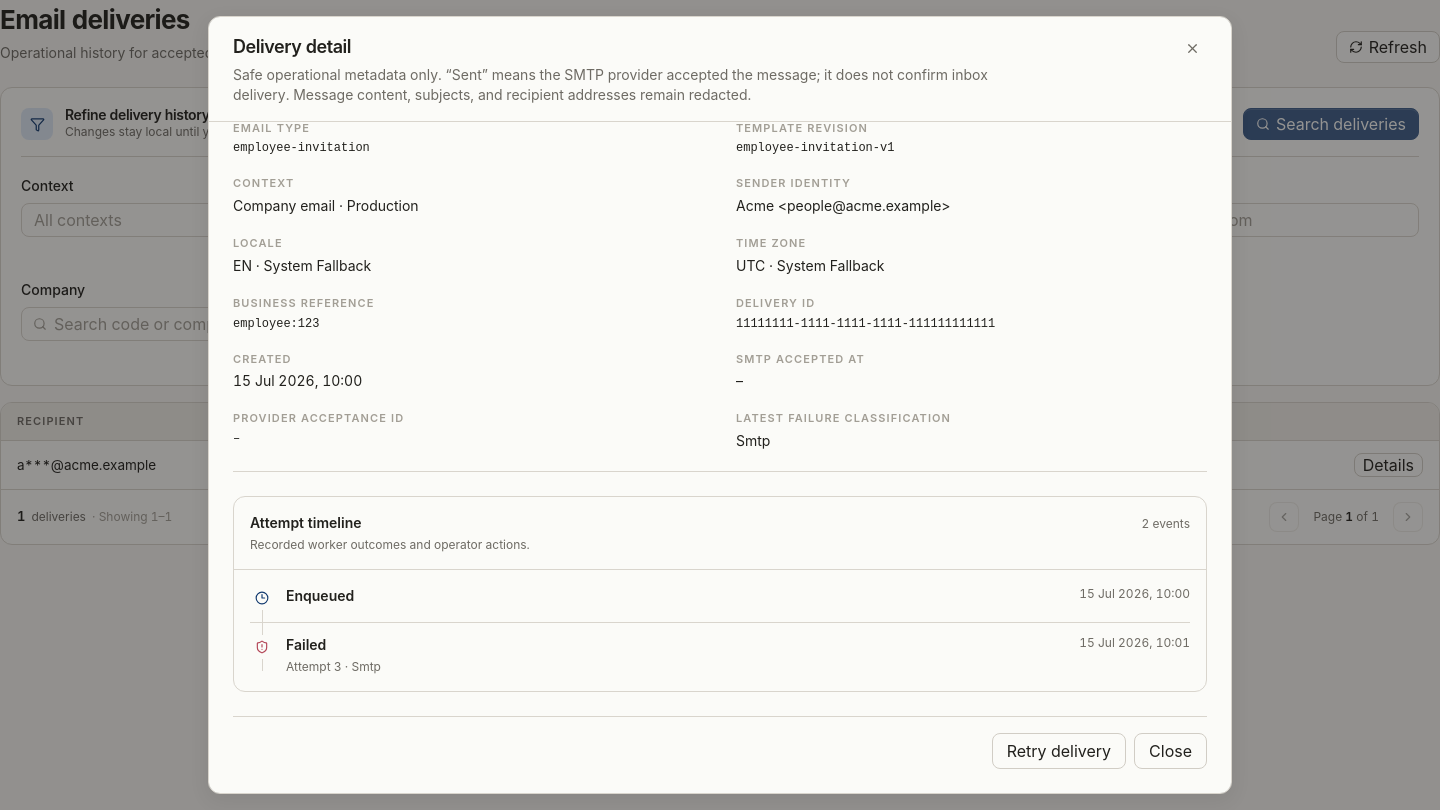
it: AdminEmailDeliveriesPage › requires a reason before retrying a failed delivery and posts only the operator reason
(page scrolled)
Click the button "Retry delivery" at coordinates (1059, 751), box top-left (992, 733), bottom-right (1126, 769)
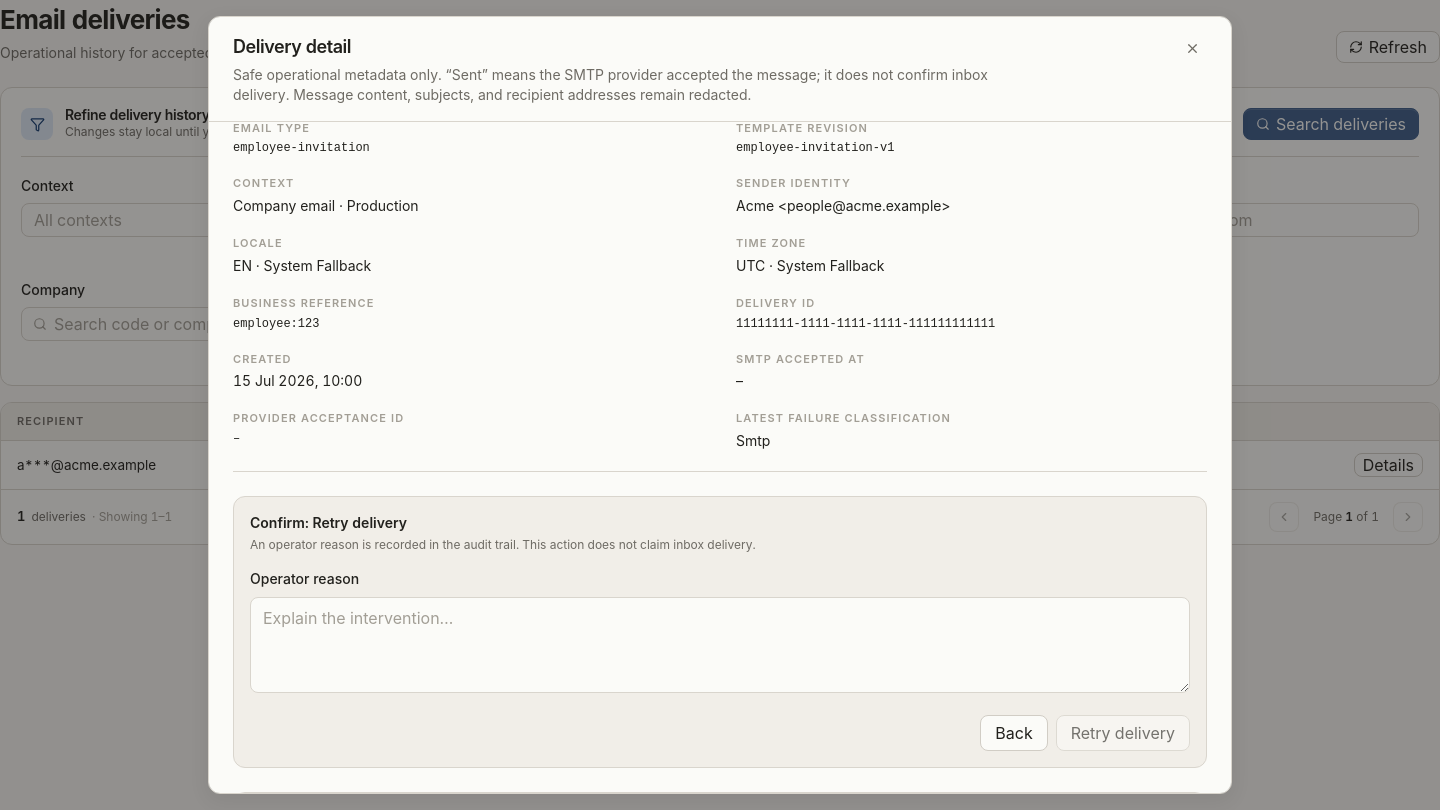
Expected: the button "Retry delivery" is disabled, top-left (1056, 715), bottom-right (1190, 751)
Type "SMTP access restored" into the text box labelled "Operator reason" at coordinates (720, 645), box top-left (250, 597), bottom-right (1190, 693)
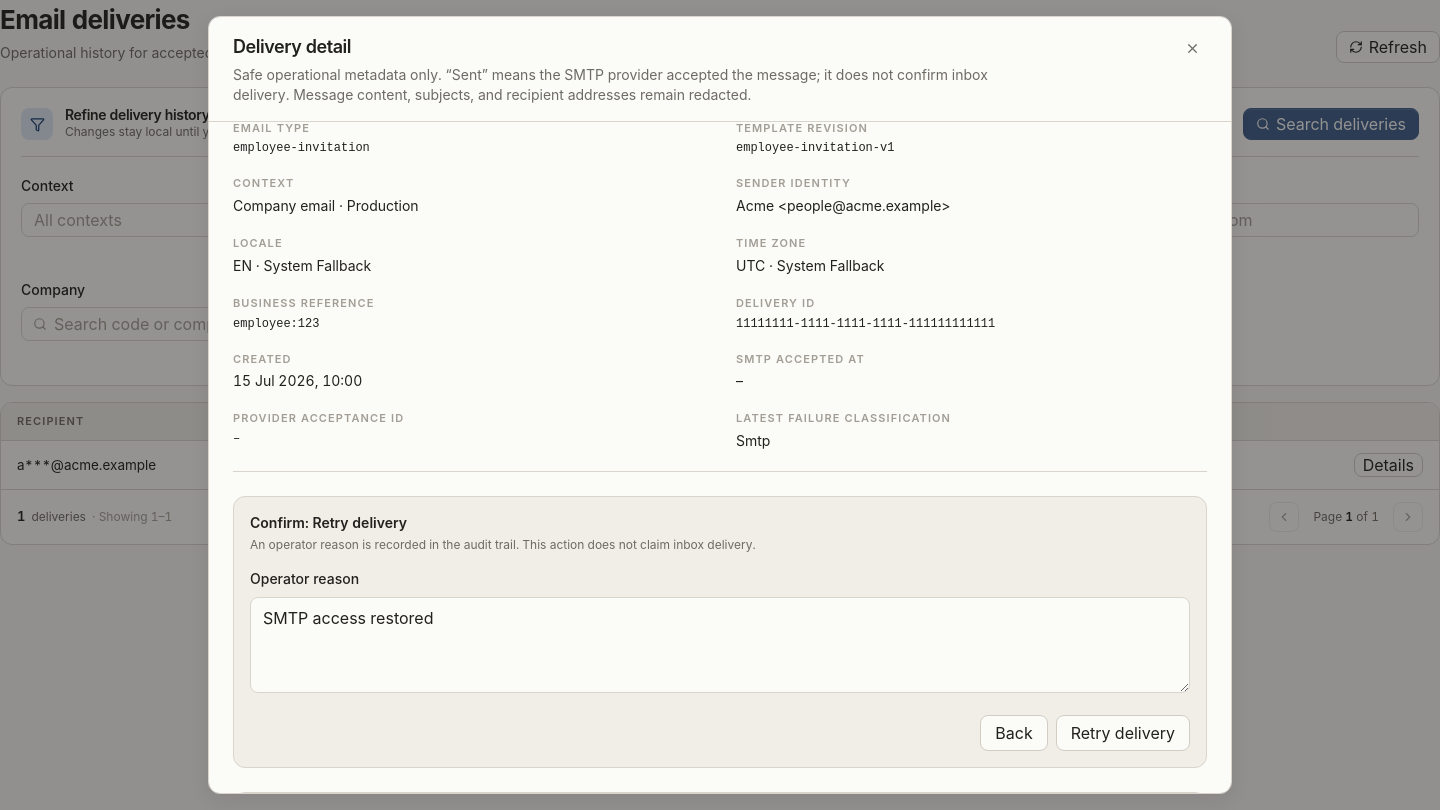
Click the button "Retry delivery" at coordinates (1123, 733), box top-left (1056, 715), bottom-right (1190, 751)
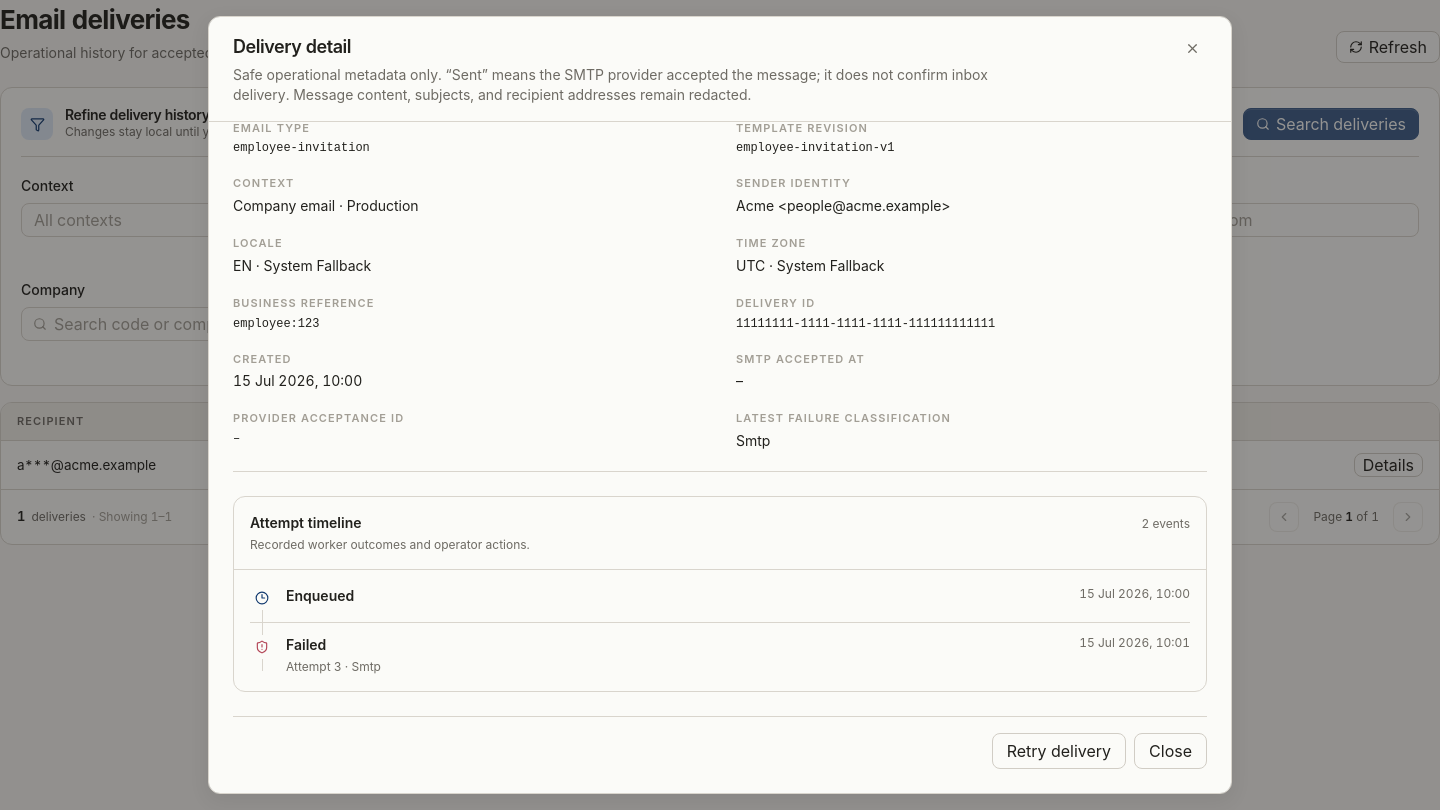
Expected: the text "SMTP access restored" is not shown
Expected: the heading "Attempt timeline" is shown, top-left (250, 514), bottom-right (362, 531)
